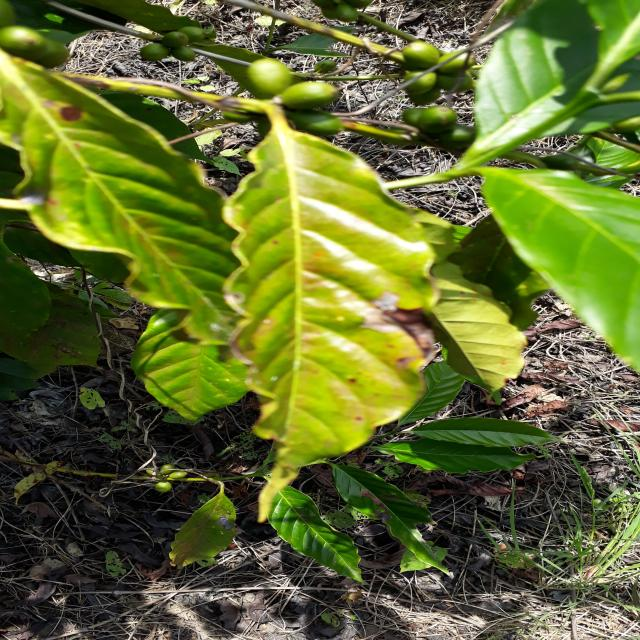Plaga-AranaRoja: (227, 101, 447, 521)
